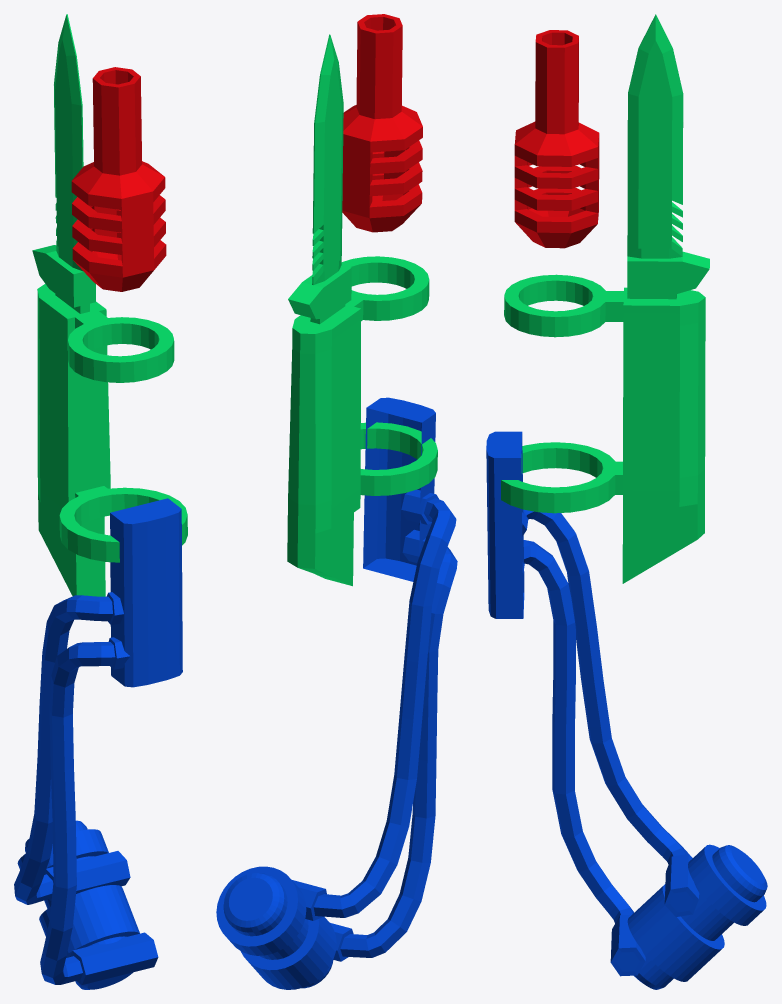
File: mg (mejoras).fbx
The picture shows the model from 3 angles, left to right: view 1: azimuth 30°, elevation 25°; view 2: azimuth 150°, elevation 25°; view 3: azimuth 270°, elevation 25°; orthographic projection. The views are drawn at different scales.
Parts seen in each view (by area): view 1: mejora1, mejora3, mejora2; view 2: mejora1, mejora3, mejora2; view 3: mejora3, mejora1, mejora2.
Boxes of the visible parts, x1,y1,x2,y2 form: mejora1: (14, 498, 182, 989); mejora3: (32, 14, 187, 596); mejora2: (71, 67, 166, 291); mejora1: (216, 397, 457, 989); mejora3: (287, 34, 437, 586); mejora2: (342, 14, 422, 232); mejora3: (501, 14, 709, 583); mejora1: (486, 431, 767, 989); mejora2: (514, 30, 599, 248).
Bounding box in the file's own units: 483 × 3270 × 872.
